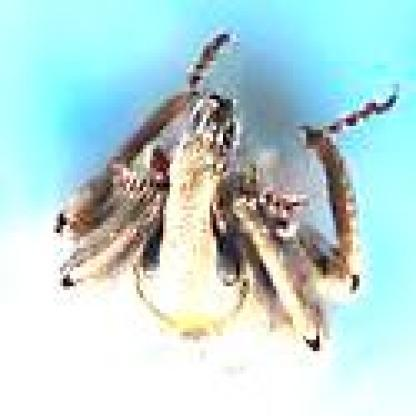rice-bug: (57, 62, 360, 352)
